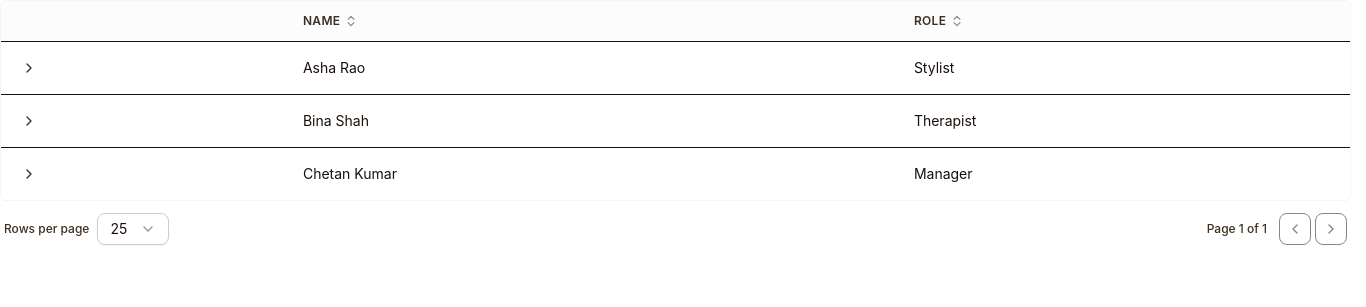
Test: DataTable row expansion (Req 6.7) › renders an expand control that reveals sub-row content when activated
Click the button named "Expand row" in the row of "Asha Rao" at coordinates (29, 68), box [13,52,45,84]
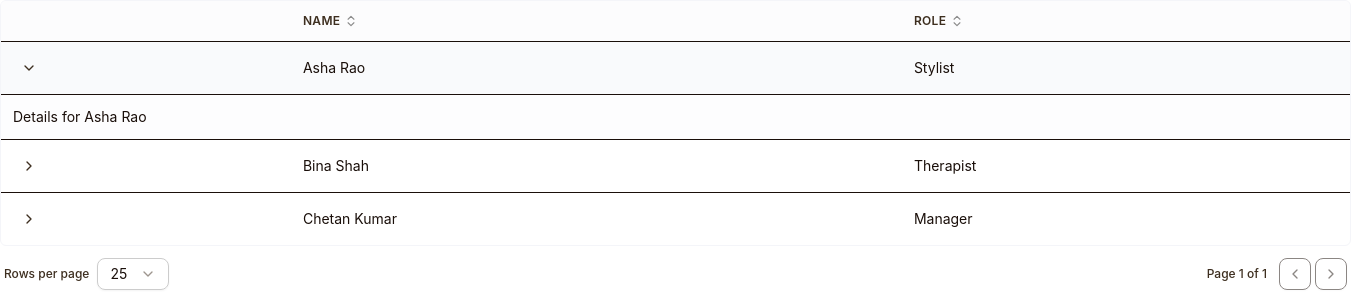
Check: the text with test id "sub-row" reads "Details for Asha Rao", box [13,108,147,124]
Check: the button named "Collapse row" is shown, box [13,52,45,84]
